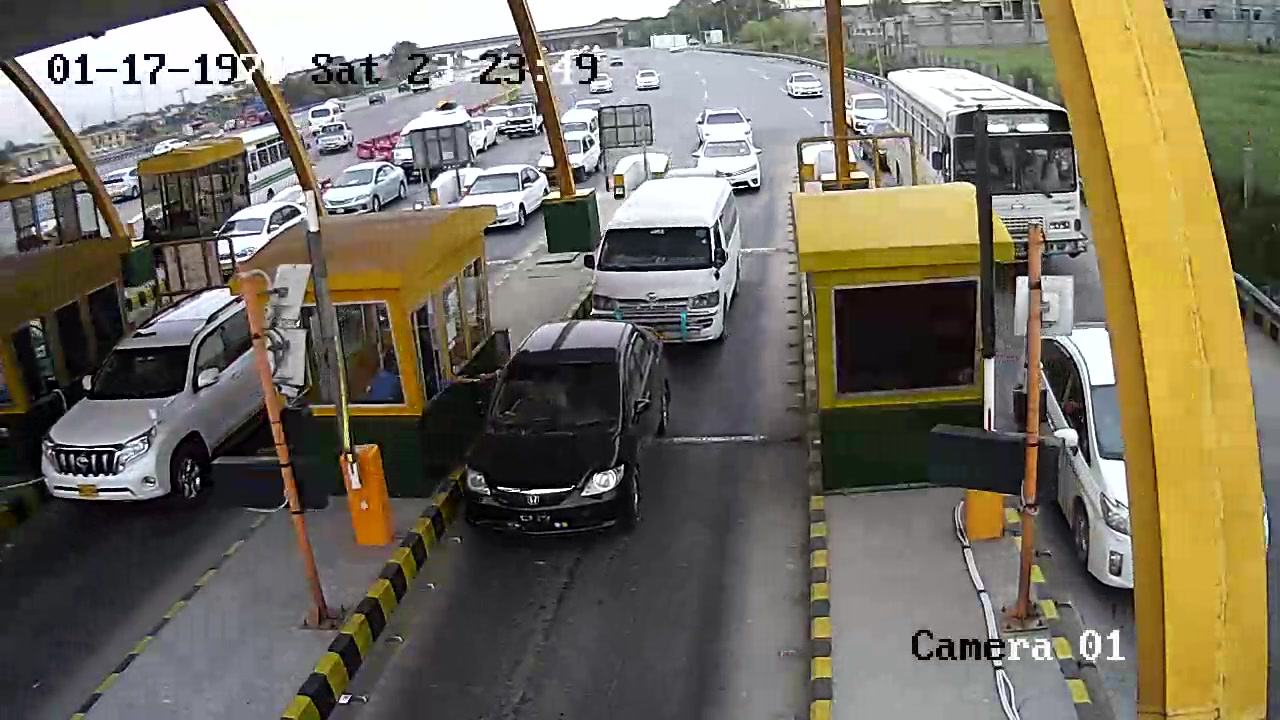F1: (466, 323, 668, 538)
F2: (582, 173, 754, 349)
